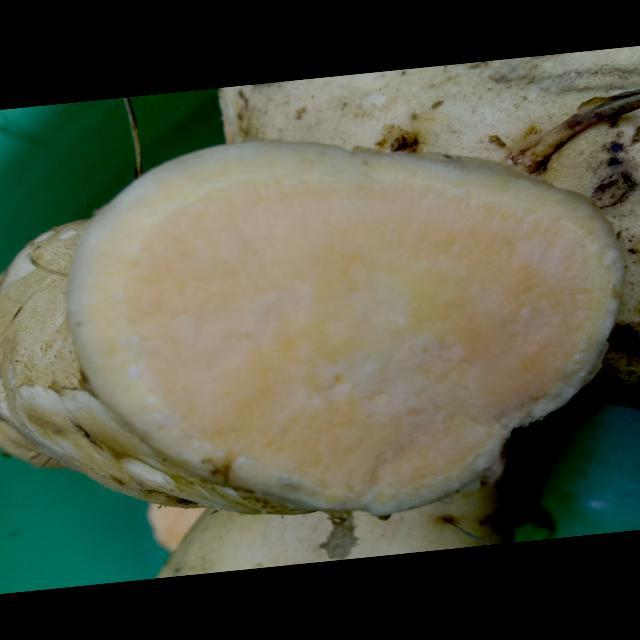Healthy Sweet Potato: (68, 142, 622, 516)
